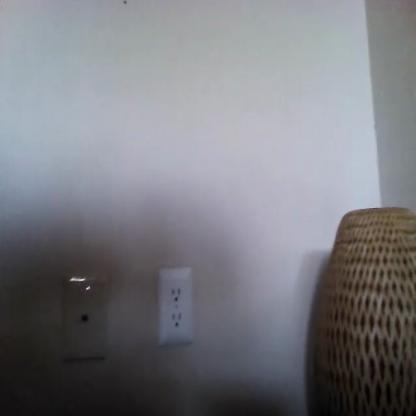OUTLET: (158, 266, 192, 342)
